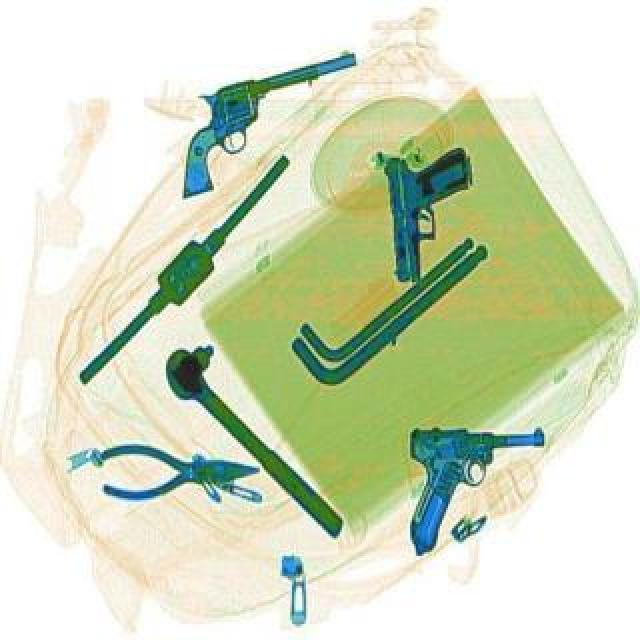gun: (150, 54, 386, 204), (408, 428, 552, 558), (388, 148, 484, 290)
wrench: (100, 444, 260, 504)
